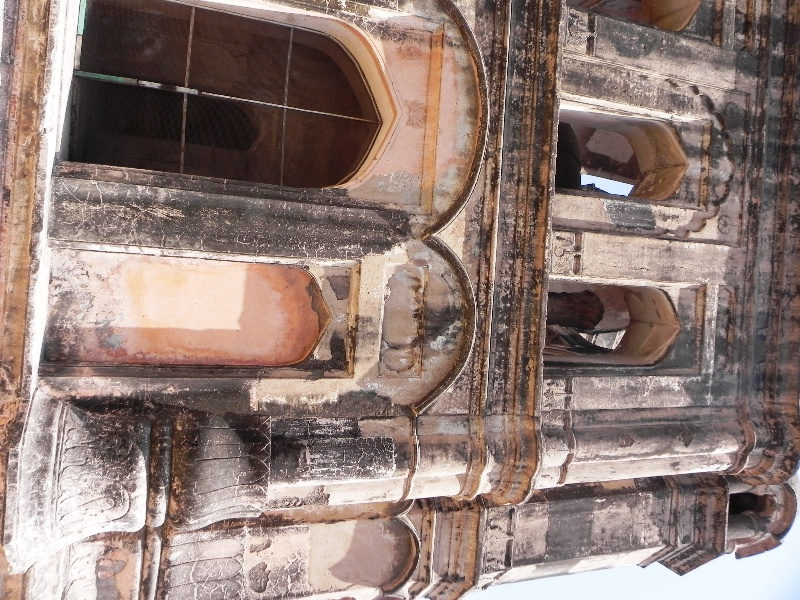Spalling: (324, 266, 353, 307)
